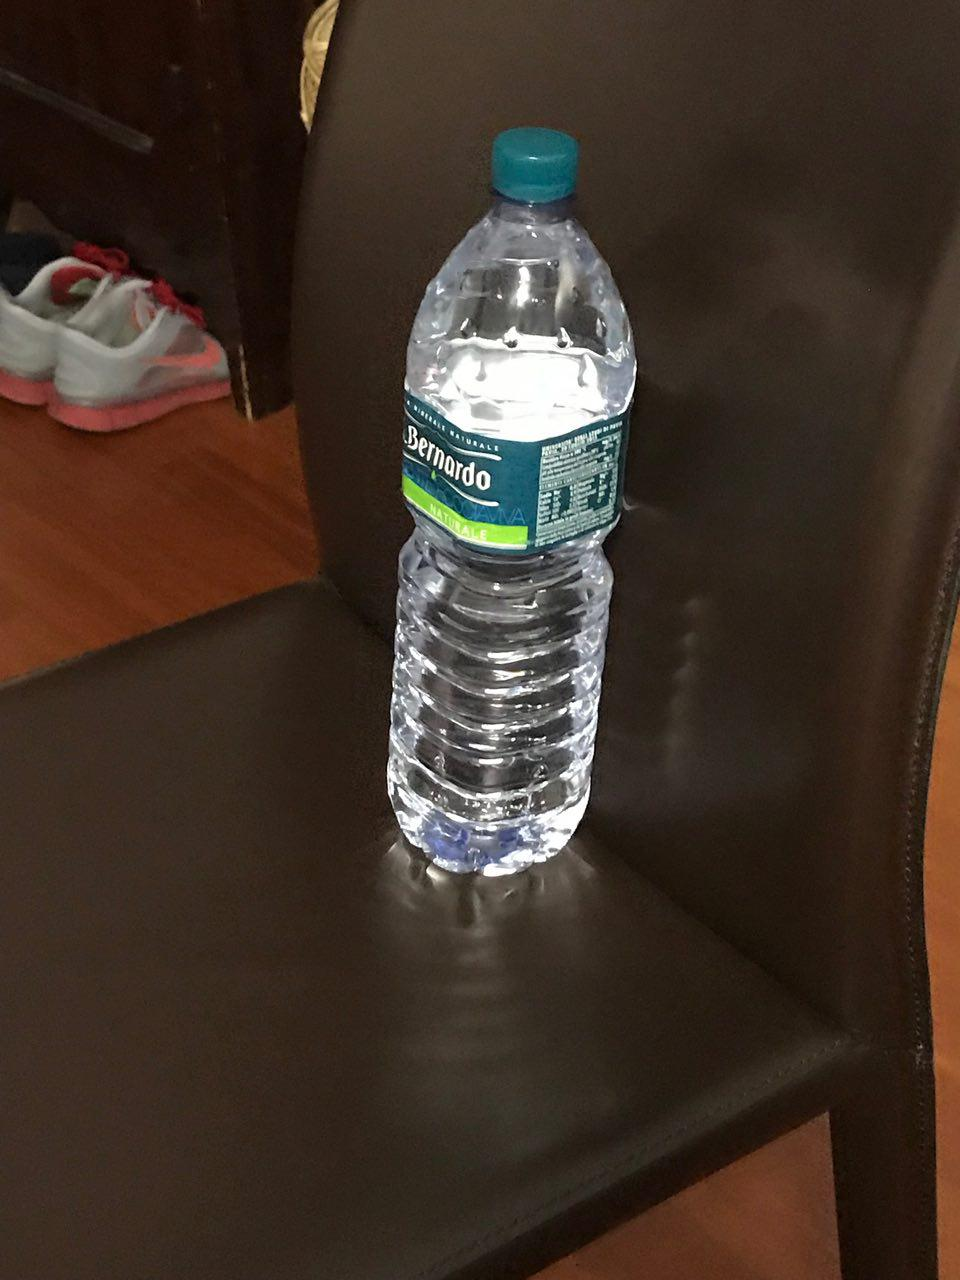san_bernardo: (383, 125, 640, 879)
